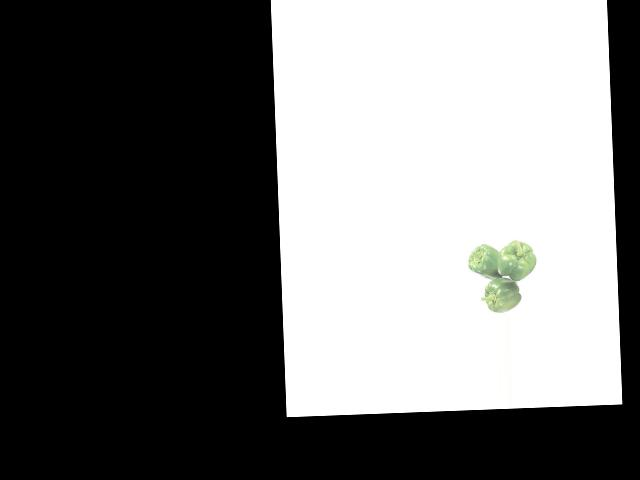bell_pepper: (495, 236, 540, 281)
